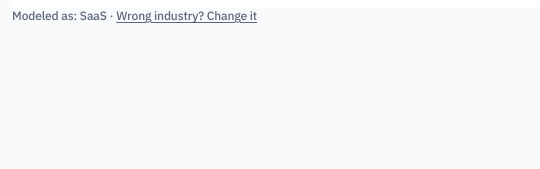
Test: industry correction on the result › offers exactly the /app industries, minus the current one
What coordinates should you click on to do the following:
click the button "Wrong industry? Change it"
I would click on:
 (187, 16)
Its box is [116, 8, 257, 24].
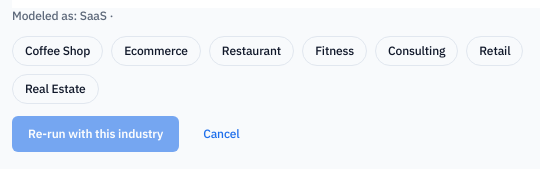
Check: the button "Re-run with this industry" is disabled, box [12, 116, 179, 152]
